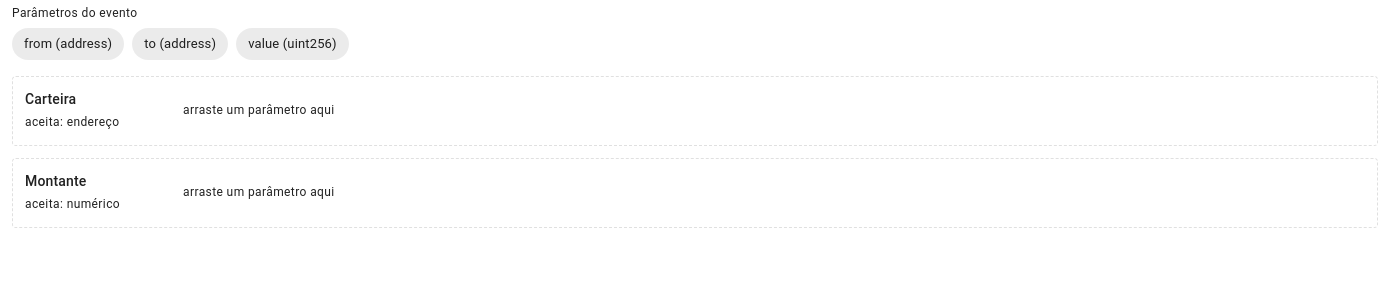
Test case: ParamBindingCanvas › recusa o drop quando o tipo do parâmetro não casa com o kind do slot
Click the button with aria-label "Parâmetro value, tipo uint256": x=292, y=44 [236,28,349,60]
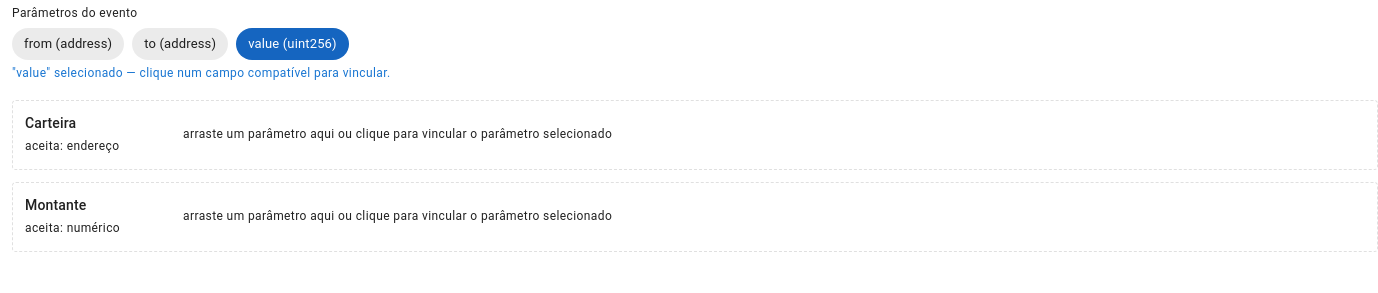
Click the button with aria-label "Campo Carteira": x=51, y=123 [12,100,1377,170]
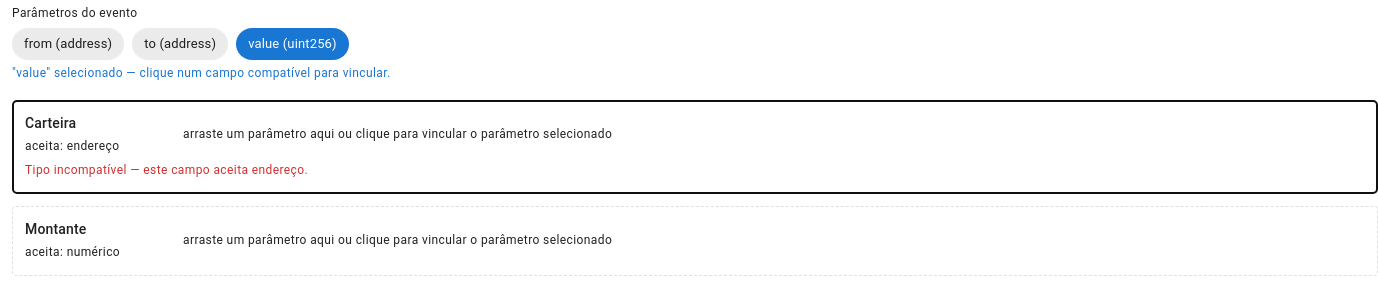
Now the text "Tipo incompatível — este campo aceita endereço." is shown, box [25,163,308,177]
